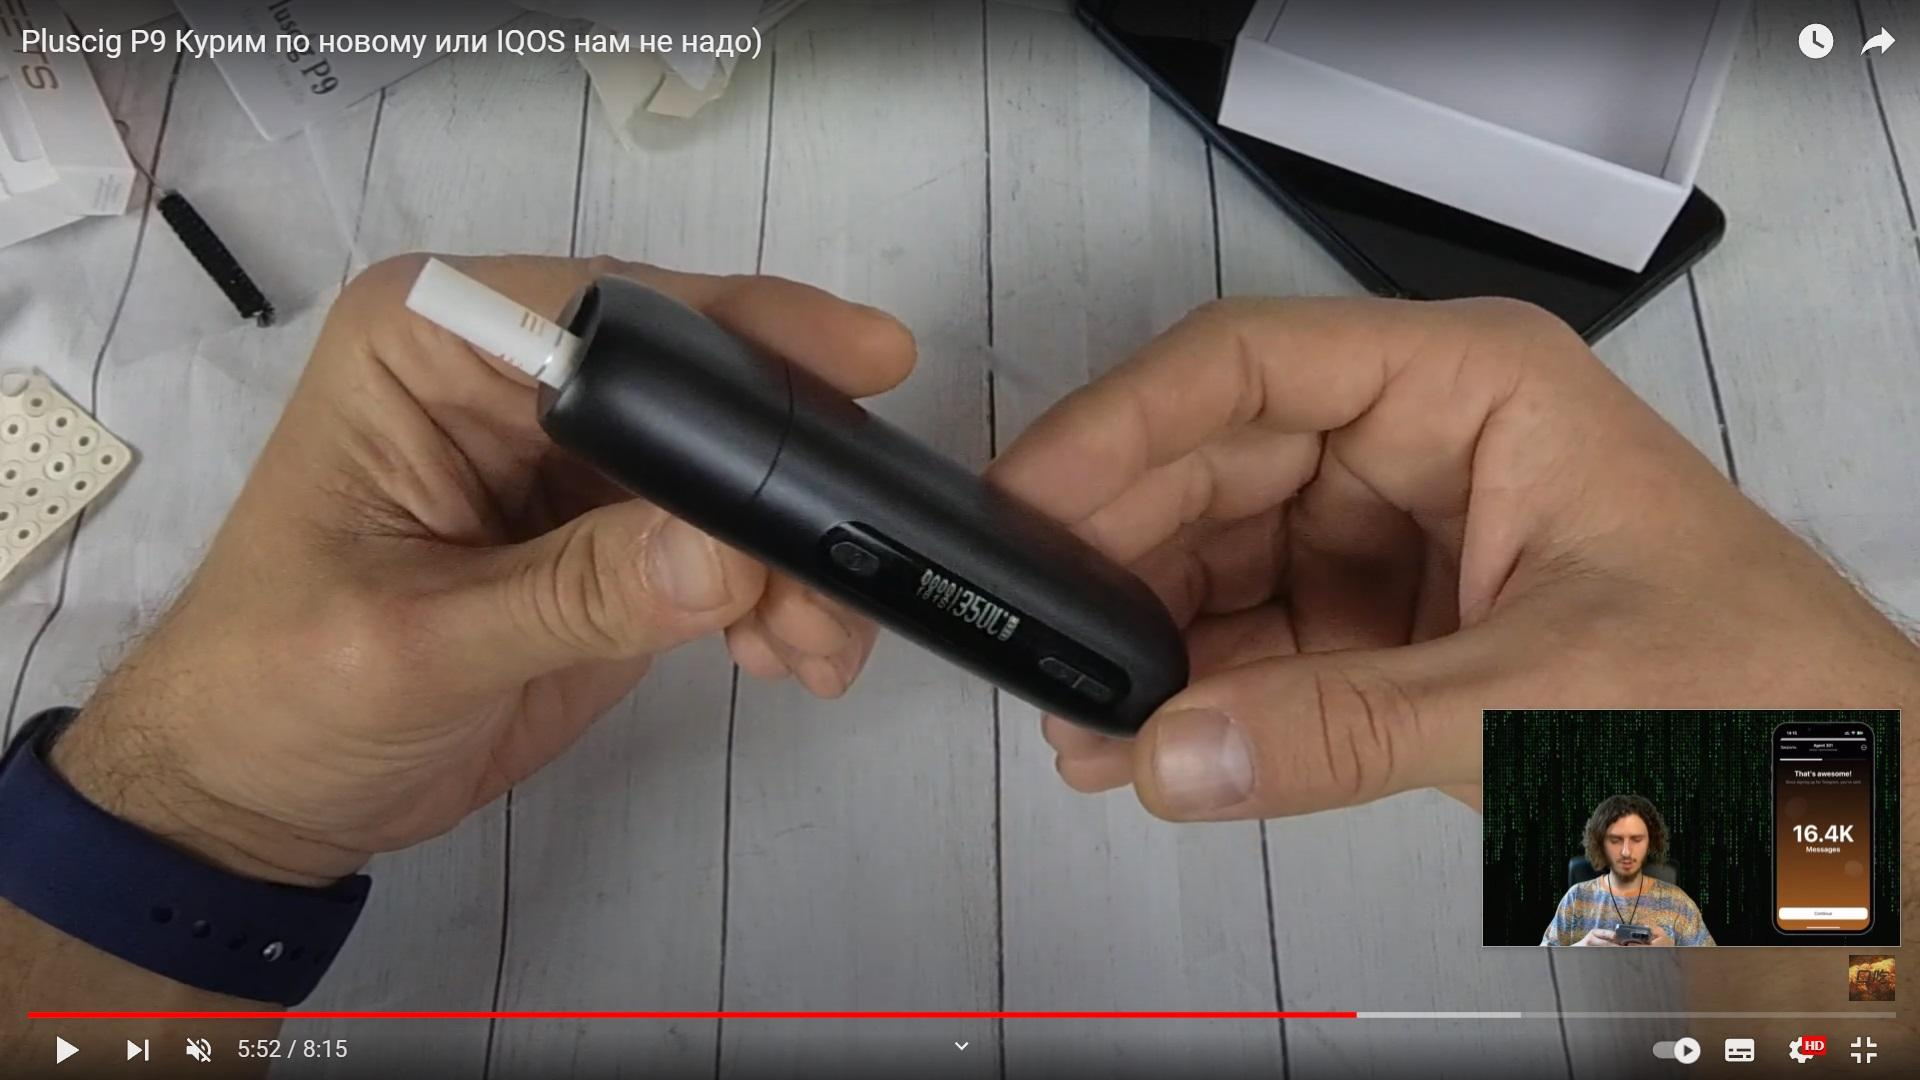iqos: (407, 258, 1188, 736)
